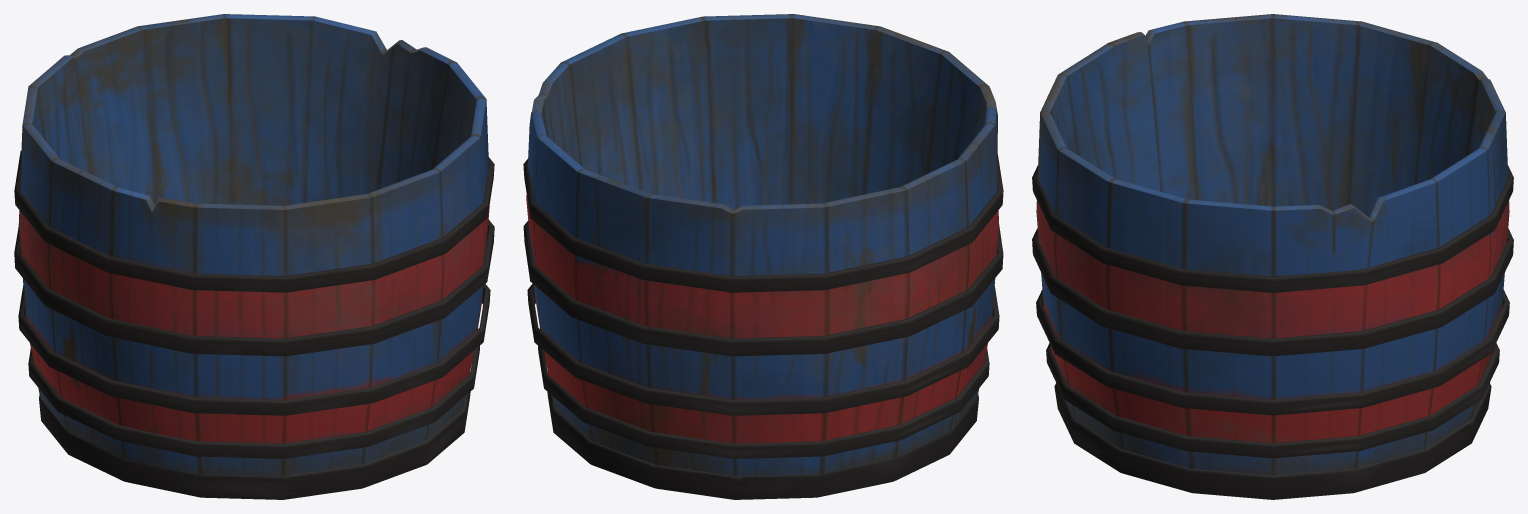
The model's file is HalfBarrel_Blue.fbx.
3 views of the same model, side by side, from view 1: azimuth 30°, elevation 25°; view 2: azimuth 150°, elevation 25°; view 3: azimuth 270°, elevation 25° (orthographic).
Visible parts, largest first — view 1: Barrel, BarrelRing11, BarrelRing15, BarrelRing7, BarrelRing9, BarrelRing16; view 2: Barrel, BarrelRing11, BarrelRing15, BarrelRing7, BarrelRing9, BarrelRing16; view 3: Barrel, BarrelRing11, BarrelRing15, BarrelRing7, BarrelRing9, BarrelRing16.
Part boxes in pixels (x1=…): Barrel: x1=18, y1=14, x2=489, y2=476; BarrelRing11: x1=39, y1=372, x2=470, y2=499; BarrelRing15: x1=14, y1=219, x2=494, y2=356; BarrelRing7: x1=14, y1=150, x2=494, y2=292; BarrelRing9: x1=18, y1=284, x2=490, y2=415; BarrelRing16: x1=28, y1=346, x2=479, y2=458; Barrel: x1=526, y1=14, x2=998, y2=476; BarrelRing11: x1=547, y1=372, x2=978, y2=499; BarrelRing15: x1=523, y1=220, x2=1003, y2=356; BarrelRing7: x1=523, y1=153, x2=1003, y2=292; BarrelRing9: x1=527, y1=283, x2=999, y2=415; BarrelRing16: x1=538, y1=346, x2=989, y2=458; Barrel: x1=1036, y1=14, x2=1509, y2=475; BarrelRing11: x1=1054, y1=383, x2=1491, y2=499; BarrelRing15: x1=1032, y1=228, x2=1513, y2=356; BarrelRing7: x1=1032, y1=165, x2=1513, y2=292; BarrelRing9: x1=1036, y1=290, x2=1509, y2=415; BarrelRing16: x1=1046, y1=343, x2=1499, y2=458.
Bounding box in the file's own units: 17.55 × 12.08 × 17.55.
